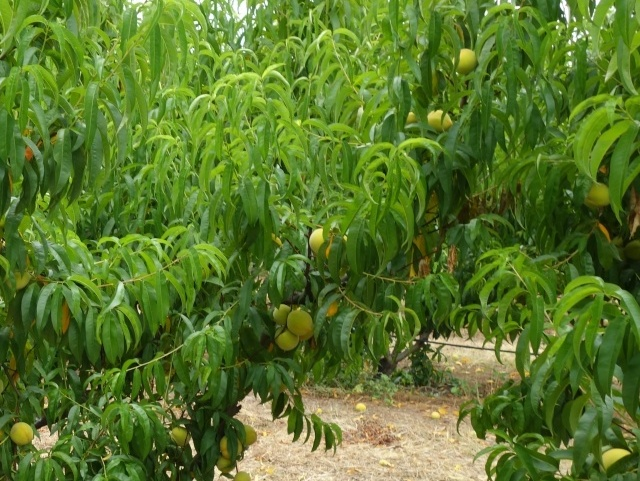peach: (581, 177, 616, 213), (451, 45, 482, 78), (274, 324, 302, 357), (602, 443, 634, 471), (9, 420, 36, 452), (425, 105, 454, 134), (286, 308, 314, 338), (308, 224, 331, 257), (271, 299, 297, 326), (166, 423, 193, 449), (216, 435, 239, 462), (238, 423, 261, 448), (214, 453, 232, 480)
